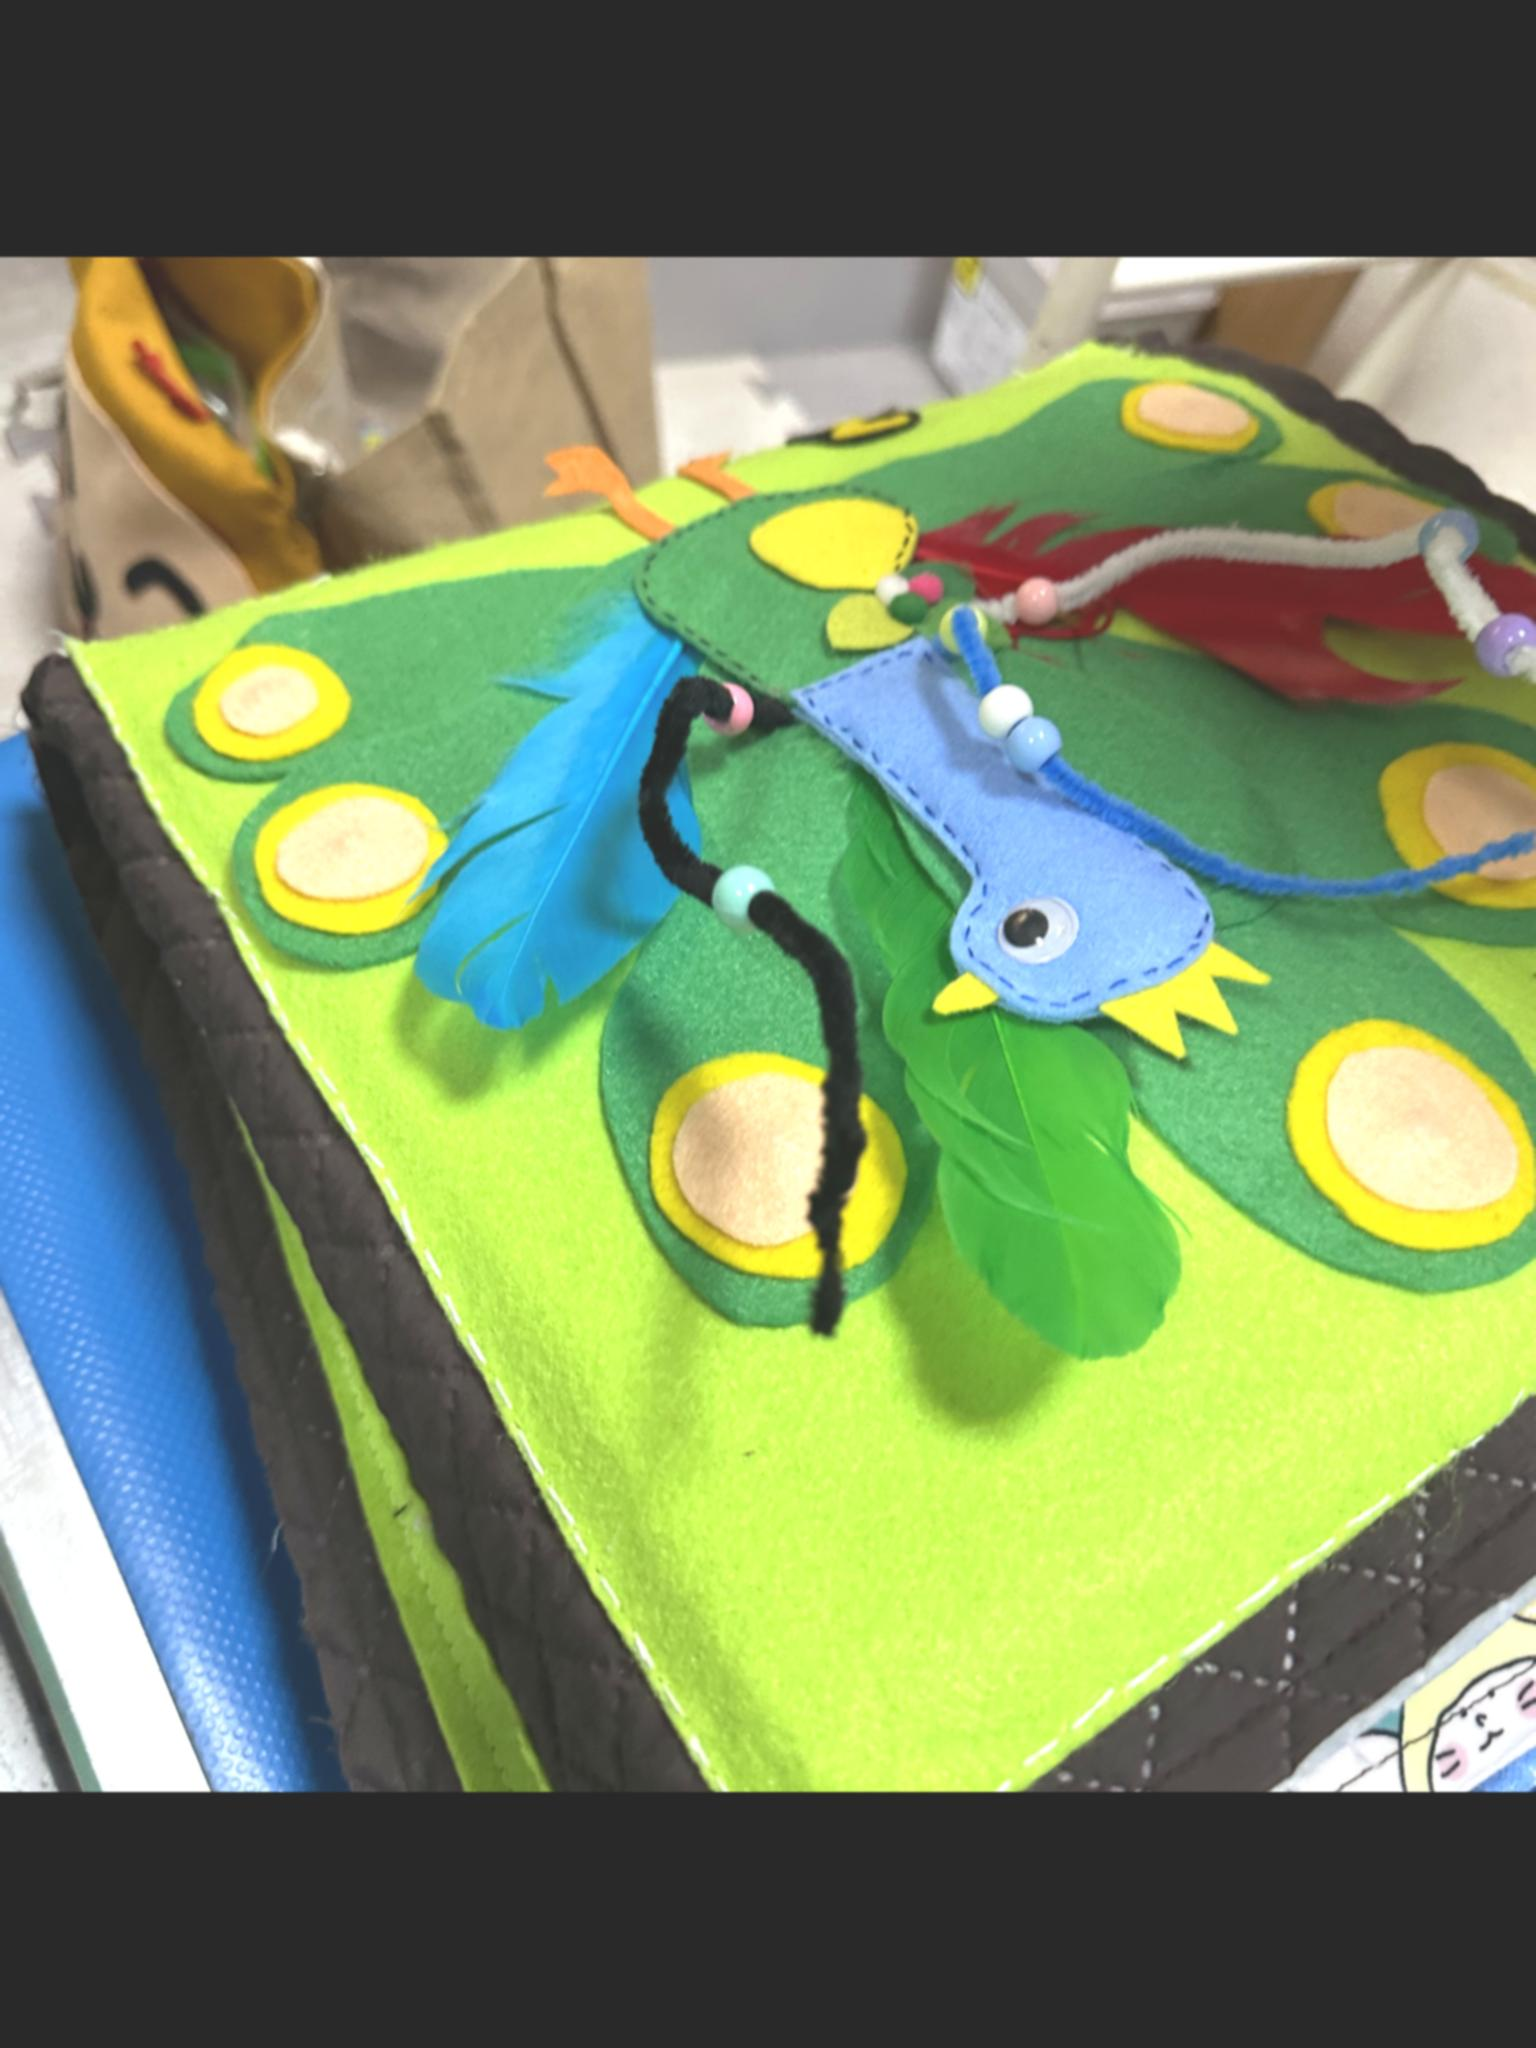bead: (707, 856, 786, 939), (700, 672, 768, 734), (995, 569, 1070, 616), (1007, 726, 1087, 766), (973, 679, 1031, 722)
